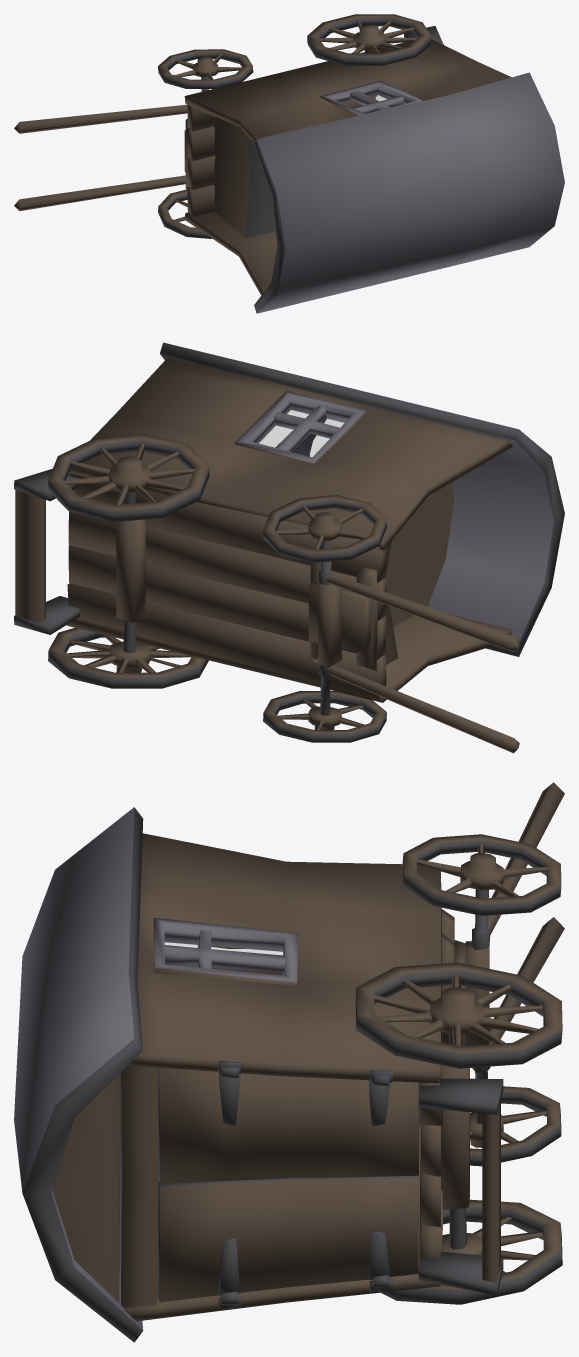
The model's file is waggon.fbx.
3 views of the same model, one above another, from view 1: azimuth 30°, elevation 25°; view 2: azimuth 150°, elevation 25°; view 3: azimuth 270°, elevation 25° (orthographic). The views are drawn at different scales.
Parts seen in each view (by area): view 1: waggon; view 2: waggon; view 3: waggon.
Boxes of the visible parts, x1=… form: waggon: x1=14, y1=14, x2=564, y2=313; waggon: x1=14, y1=342, x2=564, y2=753; waggon: x1=14, y1=782, x2=564, y2=1342.
Size of the model in its own units: 5.15 by 2.13 by 3.49.
Materials: 1 (1 with a texture image).
